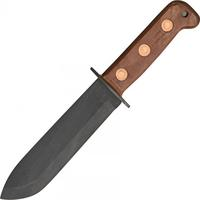knife: (1, 3, 185, 199)
